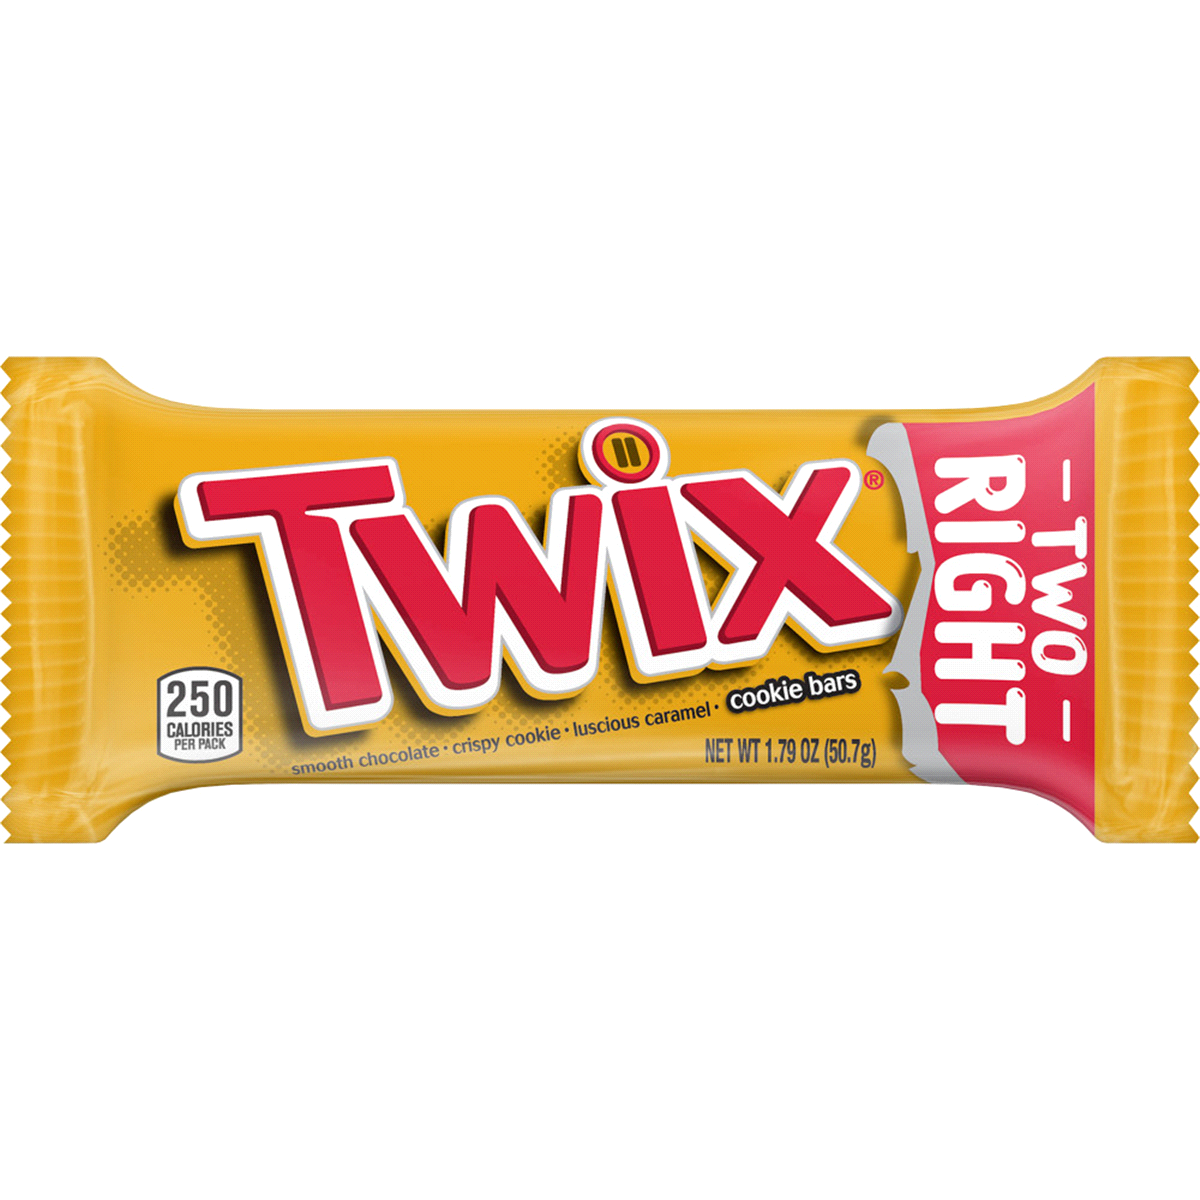twix: (2, 346, 1200, 862)
